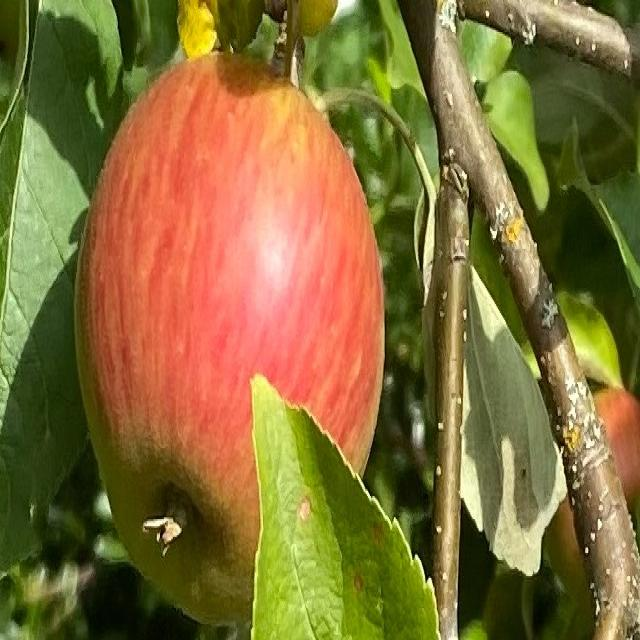100-_ripeness: (74, 53, 385, 615), (546, 391, 640, 597)
